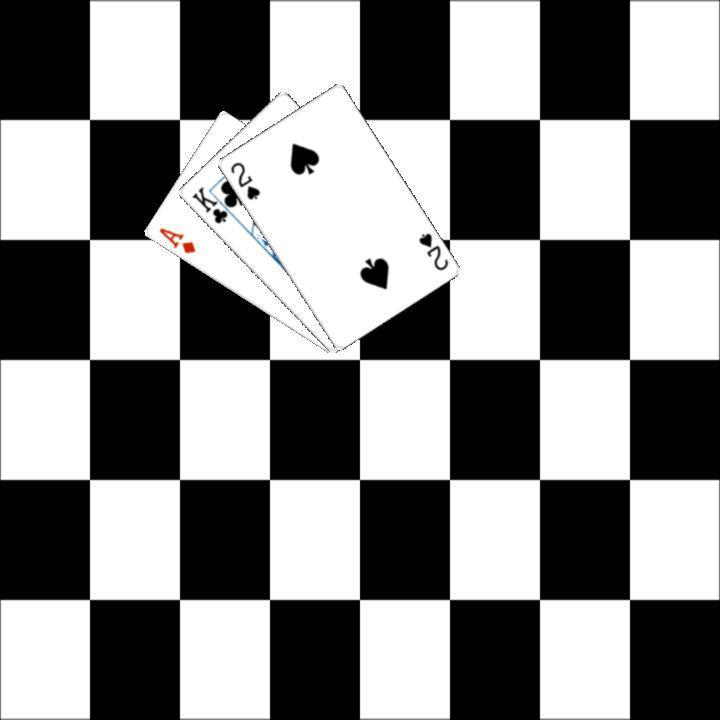2: (225, 157, 262, 202), (414, 228, 450, 273)
A: (154, 223, 197, 256)
K: (187, 182, 238, 226)
